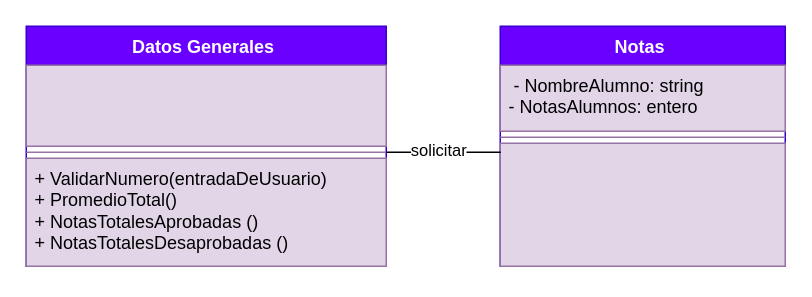
This 812x297 diagram has some shape labels left out. The centre of each missing label's shape, as x and y in pixels:
"+ PromedioGeneral() +AlumnosAprobados() + AlumnosDesaprobadoa()" goes at [642,204].
"- s_nombreAlumnos: string - s_notasAlumnos: string - s_alumnosIngresados" goes at [205,105].
